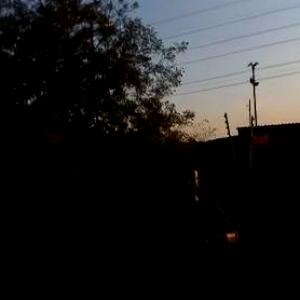follow: (156, 149, 247, 299)
